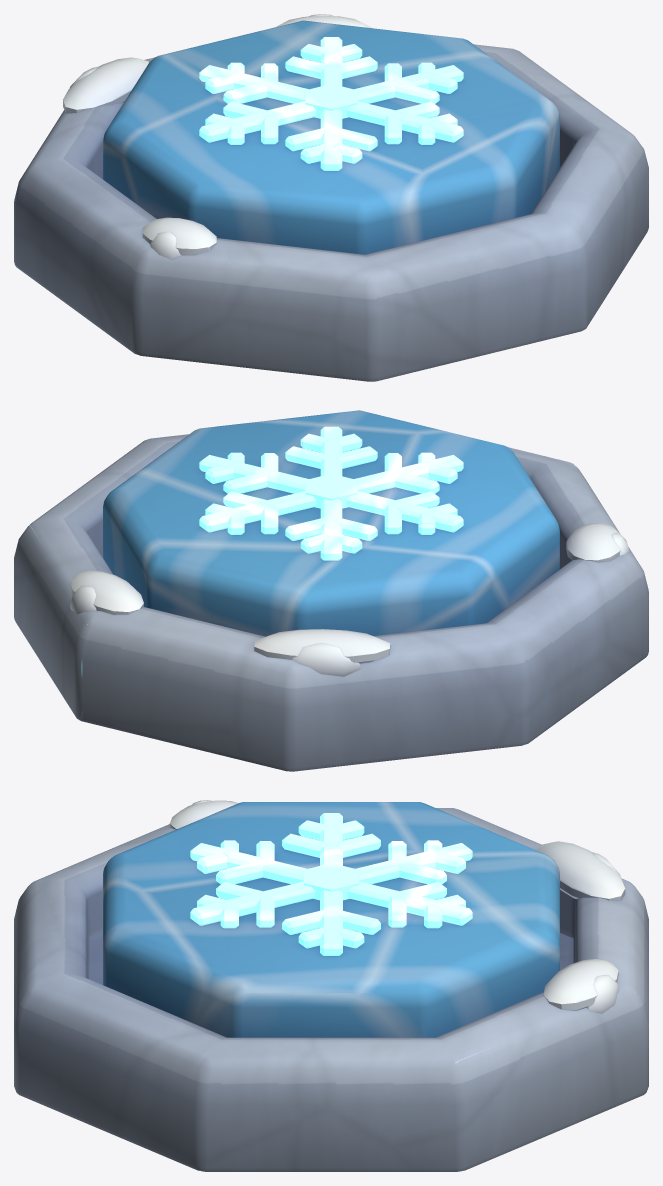
File: FP_G03_RunePlate.fbx
3 views of the same model, one above another, from view 1: azimuth 30°, elevation 25°; view 2: azimuth 150°, elevation 25°; view 3: azimuth 270°, elevation 25° (orthographic). The views are drawn at different scales.
Parts seen in each view (by area): view 1: Plinth, Plate, Emblem; view 2: Plinth, Plate, Emblem; view 3: Plinth, Plate, Emblem.
Boxes of the visible parts, x1,y1,x2,y2 form: Plinth: (14,14,648,381); Plate: (103,20,559,254); Emblem: (199,37,463,170); Plinth: (14,434,648,771); Plate: (103,410,559,636); Emblem: (199,426,463,560); Plinth: (14,800,648,1171); Plate: (103,802,559,1037); Emblem: (190,813,472,955).
Bounding box in the file's own units: 1 × 0.2864 × 1.
